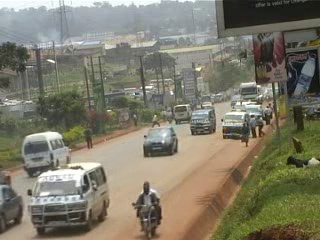Car: (137, 123, 179, 158), (0, 180, 27, 233), (196, 98, 216, 112)
Motorcycle: (126, 179, 171, 237), (163, 109, 174, 124)
